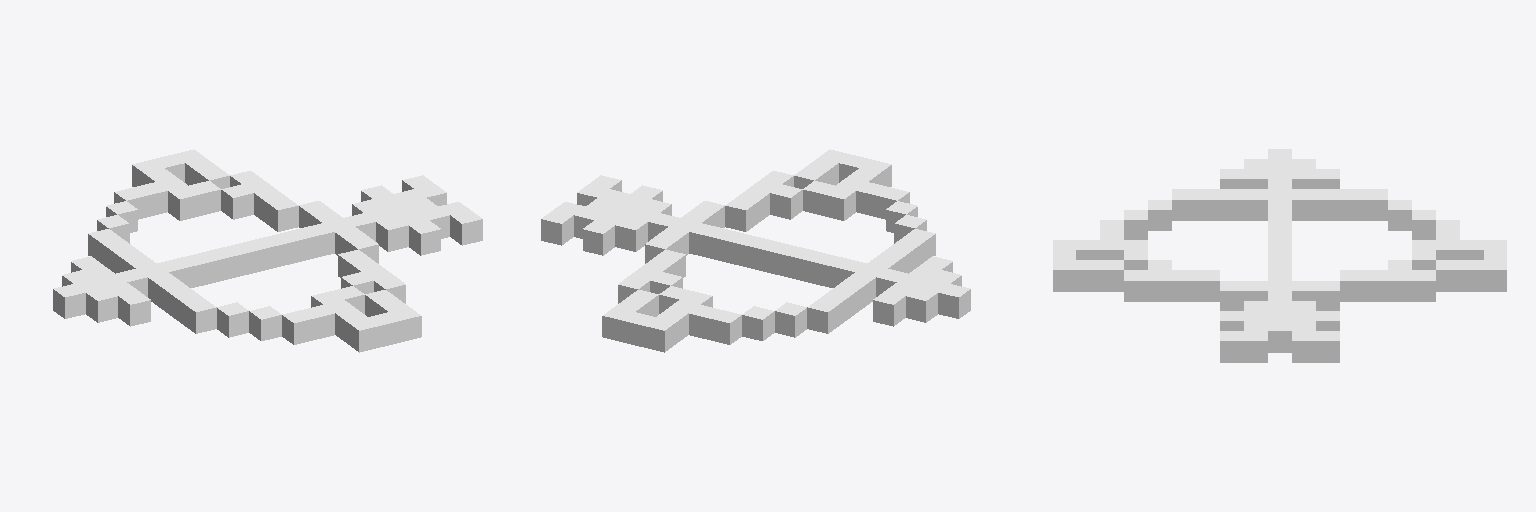
File: Bow_Arrow_Hold.obj
3 views of the same model, side by side, from view 1: azimuth 30°, elevation 25°; view 2: azimuth 150°, elevation 25°; view 3: azimuth 270°, elevation 25° (orthographic).
Bounding box in the file's own units: 19 × 1 × 19.